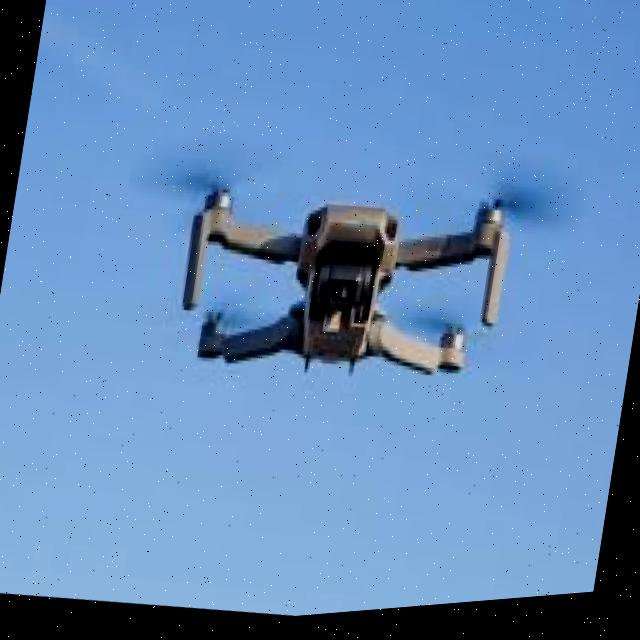drone: (107, 102, 587, 458)
